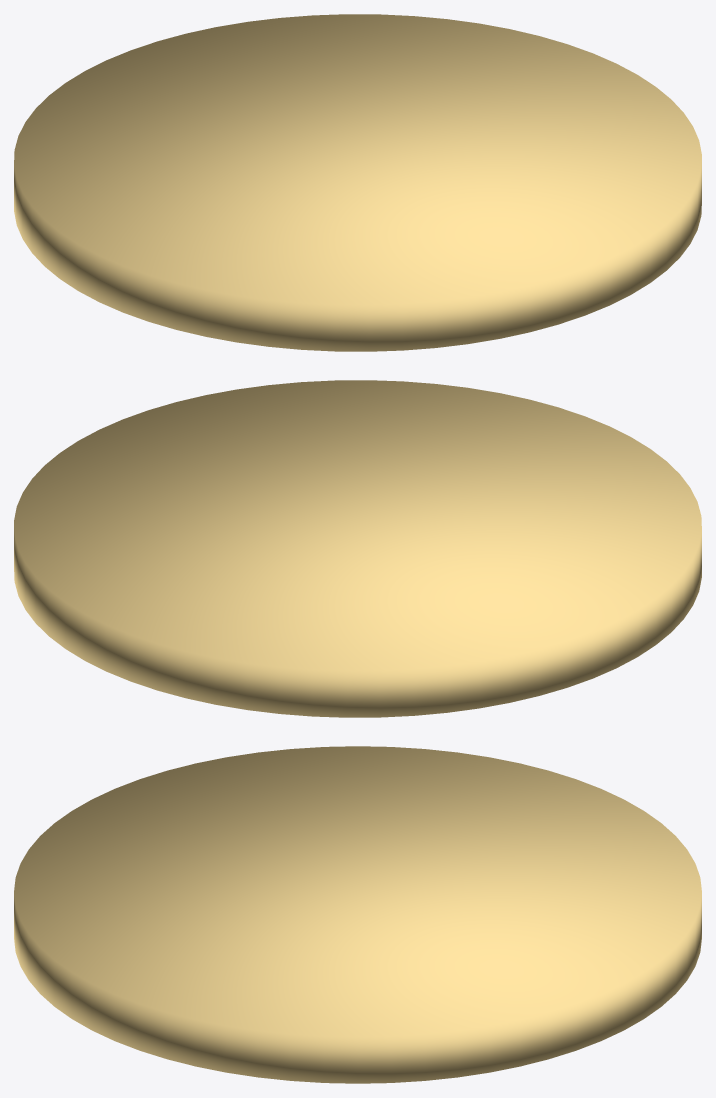
Rendered from vintage_coin.glb.
The picture shows the model from 3 angles, top to bottom: view 1: azimuth 30°, elevation 25°; view 2: azimuth 150°, elevation 25°; view 3: azimuth 270°, elevation 25°; orthographic projection.
Parts seen in each view (by area): view 1: GoldCoin; view 2: GoldCoin; view 3: GoldCoin.
Part boxes in pixels (bbox=[...]): GoldCoin: bbox=[14, 14, 701, 351]; GoldCoin: bbox=[14, 380, 701, 717]; GoldCoin: bbox=[14, 746, 701, 1083].
Size of the model in its own units: 2 by 0.15 by 2.
